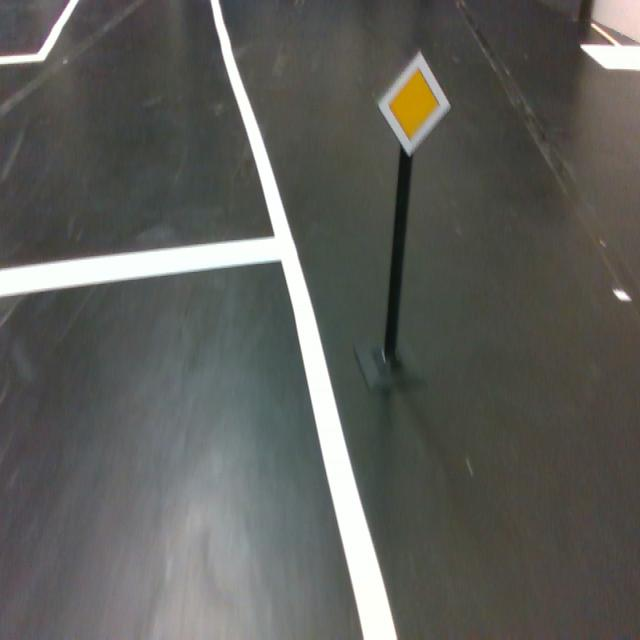priority-sign: (376, 50, 452, 158)
